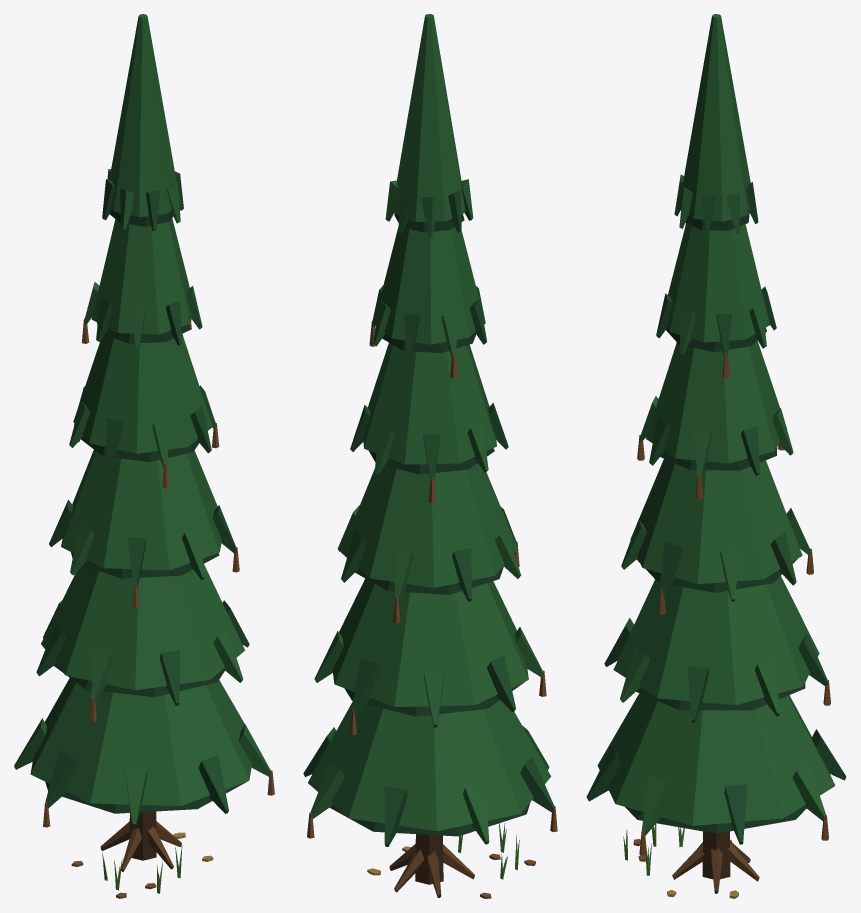
The model's file is tree_spruce.obj.
The picture shows the model from 3 angles, left to right: view 1: azimuth 30°, elevation 25°; view 2: azimuth 150°, elevation 25°; view 3: azimuth 270°, elevation 25°; orthographic projection. The views are drawn at different scales.
Parts seen in each view (by area): view 1: Tier, Tip, Root, Cone, Trunk; view 2: Tier, Tip, Root, Cone, Trunk; view 3: Tier, Tip, Root, Cone, Trunk.
Part boxes in pixels (<box>): Tier: <box>30,14,251,813</box>; Tip: <box>14,169,271,826</box>; Root: <box>100,821,181,871</box>; Cone: <box>43,318,274,827</box>; Trunk: <box>129,811,156,860</box>; Tier: <box>308,14,550,836</box>; Tip: <box>303,179,554,846</box>; Root: <box>389,844,474,897</box>; Cone: <box>307,321,557,838</box>; Trunk: <box>415,834,443,884</box>; Tier: <box>597,14,835,833</box>; Tip: <box>586,174,846,844</box>; Root: <box>672,841,759,893</box>; Cone: <box>637,353,830,855</box>; Trunk: <box>702,831,730,879</box>.
Bounding box in the file's own units: 5 × 18.05 × 4.95.
